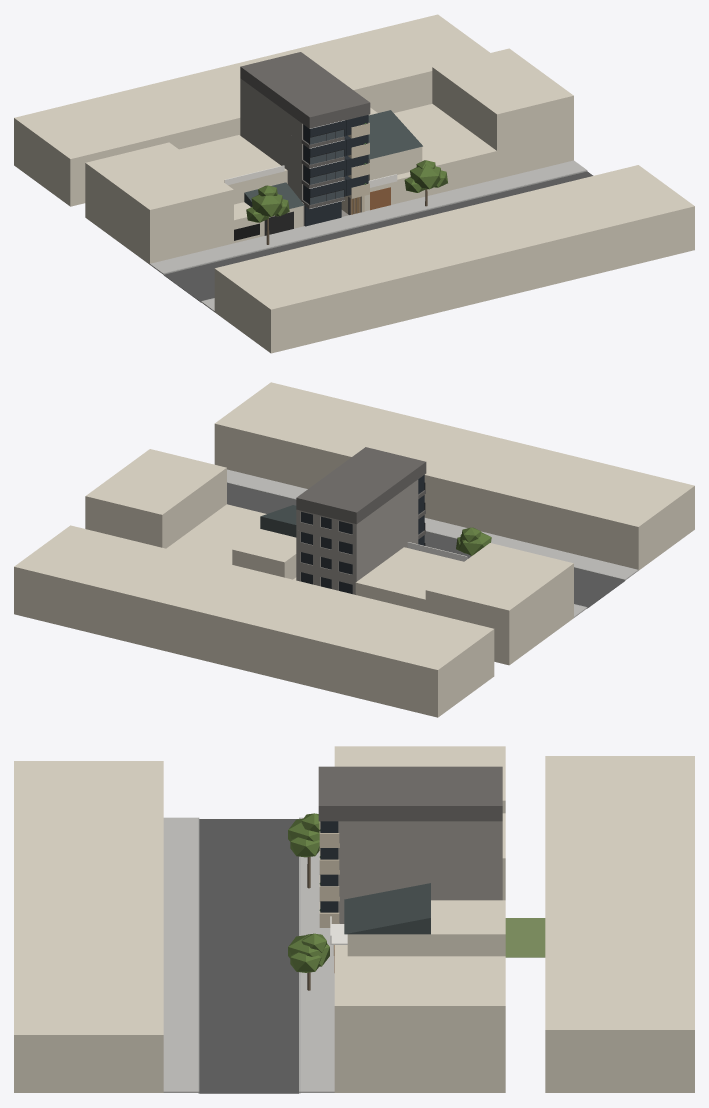
Rendered from edificio.glb.
3 renders of one model, top to bottom at view 1: azimuth 30°, elevation 25°; view 2: azimuth 150°, elevation 25°; view 3: azimuth 270°, elevation 25°, orthographic. The views are drawn at different scales.
Parts seen in each view (by area): view 1: Vecinos_Cuadra, Vecinos_Enfrente, Techo, Vecinos_Izquierda, Veredas, Vecinos_Derecha, Calzada, Arboles_Vereda, Piso_04, Piso_03, Piso_02, Cordones (+6 smaller); view 2: Vecinos_Cuadra, Vecinos_Enfrente, Techo, Vecinos_Izquierda, Vecinos_Derecha, Veredas, Calzada, Piso_03, Piso_04, Piso_02, Piso_01, Arboles_Vereda; view 3: Vecinos_Cuadra, Vecinos_Enfrente, Calzada, Veredas, Vecinos_Derecha, Techo, Piso_03, Piso_04, Piso_02, Arboles_Vereda, Parque_Patio, Cordones.
Part boxes in pixels (x1=…): Vecinos_Cuadra: x1=14, y1=14, x2=573, y2=264; Vecinos_Enfrente: x1=214, y1=165, x2=694, y2=353; Techo: x1=240, y1=52, x2=370, y2=128; Vecinos_Izquierda: x1=179, y1=135, x2=304, y2=243; Veredas: x1=150, y1=160, x2=586, y2=311; Vecinos_Derecha: x1=364, y1=107, x2=425, y2=211; Calzada: x1=164, y1=171, x2=593, y2=302; Arboles_Vereda: x1=246, y1=160, x2=447, y2=244; Piso_04: x1=240, y1=78, x2=369, y2=148; Piso_03: x1=240, y1=98, x2=369, y2=168; Piso_02: x1=240, y1=119, x2=369, y2=188; Cordones: x1=163, y1=170, x2=587, y2=302; Vecinos_Cuadra: x1=14, y1=449, x2=573, y2=717; Vecinos_Enfrente: x1=214, y1=382, x2=694, y2=570; Techo: x1=296, y1=447, x2=426, y2=524; Vecinos_Izquierda: x1=355, y1=542, x2=467, y2=611; Vecinos_Derecha: x1=232, y1=505, x2=296, y2=580; Veredas: x1=227, y1=469, x2=638, y2=617; Calzada: x1=227, y1=483, x2=624, y2=608; Piso_03: x1=296, y1=500, x2=425, y2=564; Piso_04: x1=296, y1=479, x2=425, y2=544; Piso_02: x1=296, y1=520, x2=425, y2=584; Piso_01: x1=296, y1=540, x2=425, y2=594; Arboles_Vereda: x1=456, y1=527, x2=491, y2=555; Vecinos_Cuadra: x1=334, y1=746, x2=694, y2=1092; Vecinos_Enfrente: x1=14, y1=761, x2=163, y2=1092; Calzada: x1=199, y1=819, x2=298, y2=1093; Veredas: x1=163, y1=817, x2=334, y2=1092; Vecinos_Derecha: x1=330, y1=883, x2=505, y2=972; Techo: x1=318, y1=766, x2=502, y2=821; Piso_03: x1=319, y1=848, x2=502, y2=874; Piso_04: x1=319, y1=821, x2=502, y2=847; Piso_02: x1=319, y1=874, x2=502, y2=901; Arboles_Vereda: x1=288, y1=813, x2=329, y2=990; Parque_Patio: x1=505, y1=918, x2=545, y2=957; Cordones: x1=198, y1=817, x2=300, y2=1093.
Size of the model in its own units: 60.66 by 16.15 by 63.7.
